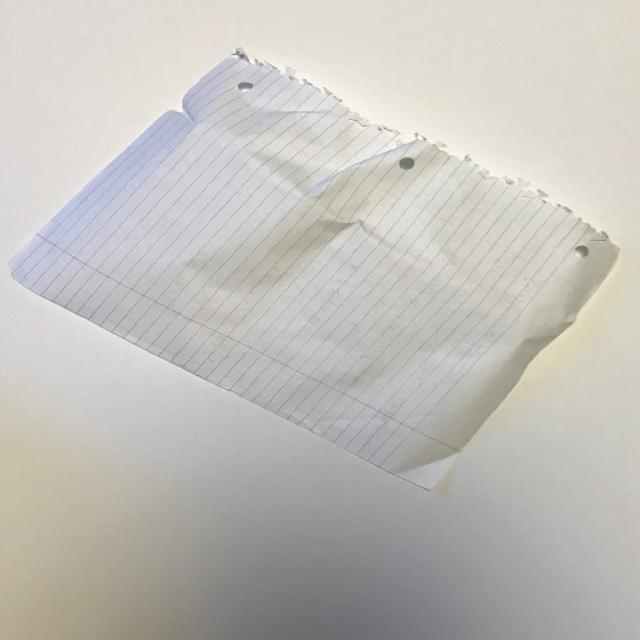paper: (0, 29, 640, 492)
